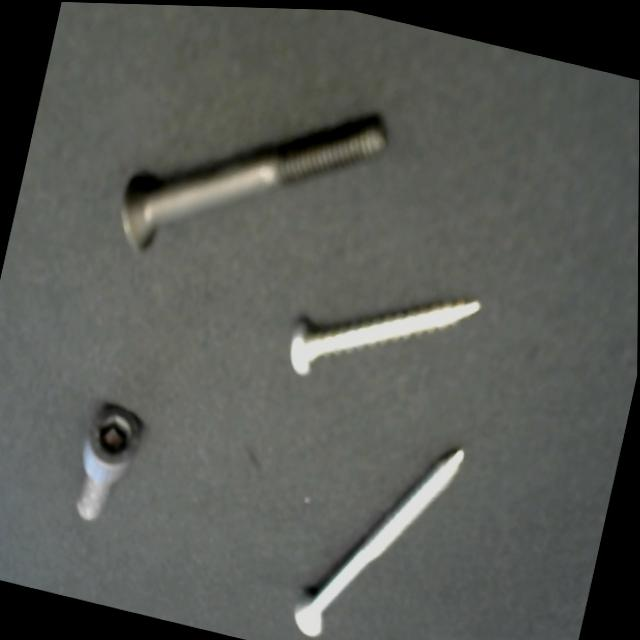FlatHeadSocketScrew: (92, 50, 397, 307)
SheetMetalScrew: (275, 232, 489, 420)
SocketHeadCapScrew: (58, 385, 155, 540)
WoodScrew: (278, 403, 472, 640)
